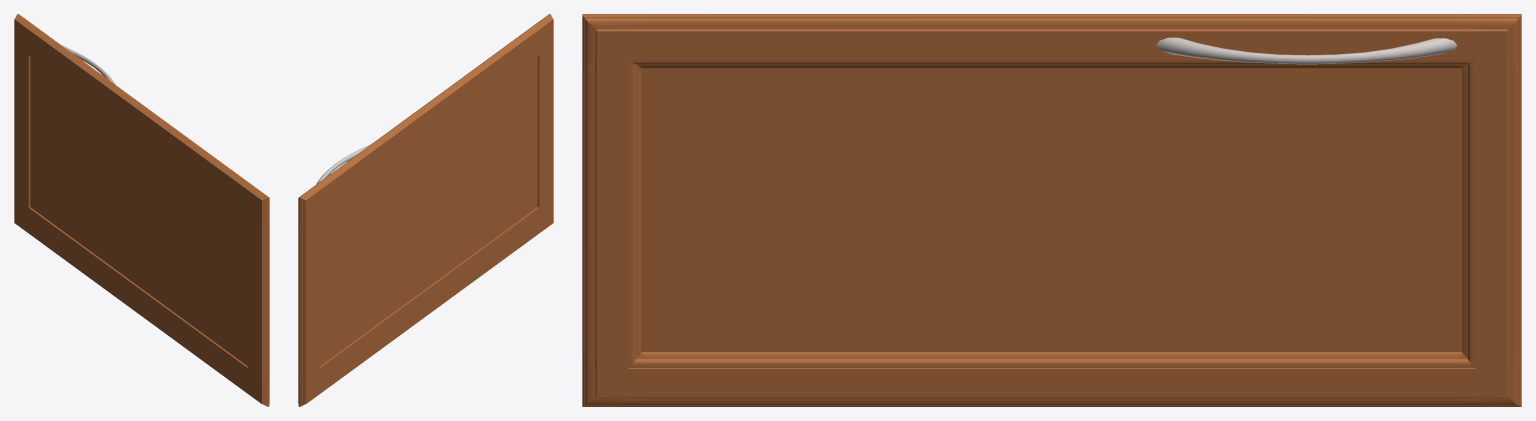
Rendered from cabinet_left_door.dae.
3 views of the same model, side by side, from view 1: azimuth 30°, elevation 25°; view 2: azimuth 150°, elevation 25°; view 3: azimuth 270°, elevation 25° (orthographic). The views are drawn at different scales.
Parts seen in each view (by area): view 1: LB_31_CC, LB_31_CR, LB_31_CL, LB_31_TC, LB_31_BC (×2), LB_31_TR, LB_31_TL, LB_31_BR, LB_31_BL, instance_10; view 2: LB_31_CC, LB_31_CR, LB_31_CL, LB_31_BC, LB_31_TC (×2), LB_31_BR, LB_31_BL, LB_31_TR, LB_31_TL, instance_10; view 3: LB_31_CC, LB_31_CL, LB_31_CR, LB_31_TC (×2), LB_31_BC (×2), instance_10, LB_31_TR, LB_31_BR, LB_31_TL, LB_31_BL.
Part boxes in pixels (<box>): LB_31_CC: <box>31,58,247,363</box>; LB_31_CR: <box>30,26,251,214</box>; LB_31_CL: <box>30,207,247,392</box>; LB_31_TC: <box>247,218,269,376</box>; LB_31_BC (×2): <box>14,47,31,205</box>; LB_31_TR: <box>246,185,269,227</box>; LB_31_TL: <box>246,366,269,406</box>; LB_31_BR: <box>14,14,35,57</box>; LB_31_BL: <box>14,195,31,233</box>; instance_10: <box>61,45,115,84</box>; LB_31_CC: <box>320,58,536,363</box>; LB_31_CR: <box>316,26,537,214</box>; LB_31_CL: <box>320,207,537,392</box>; LB_31_BC: <box>298,218,320,376</box>; LB_31_TC (×2): <box>536,47,553,205</box>; LB_31_BR: <box>298,185,321,227</box>; LB_31_BL: <box>298,366,321,406</box>; LB_31_TR: <box>532,14,553,57</box>; LB_31_TL: <box>536,195,553,233</box>; instance_10: <box>316,144,370,183</box>; LB_31_CC: <box>647,70,1456,348</box>; LB_31_CL: <box>647,348,1456,406</box>; LB_31_CR: <box>647,14,1456,70</box>; LB_31_TC (×2): <box>582,70,647,353</box>; LB_31_BC (×2): <box>1456,70,1521,353</box>; instance_10: <box>1156,37,1457,64</box>; LB_31_TR: <box>582,14,647,70</box>; LB_31_BR: <box>1456,14,1521,70</box>; LB_31_TL: <box>582,348,647,406</box>; LB_31_BL: <box>1456,348,1521,406</box>.
Size of the model in its own units: 2.12 by 16 by 34.75.
